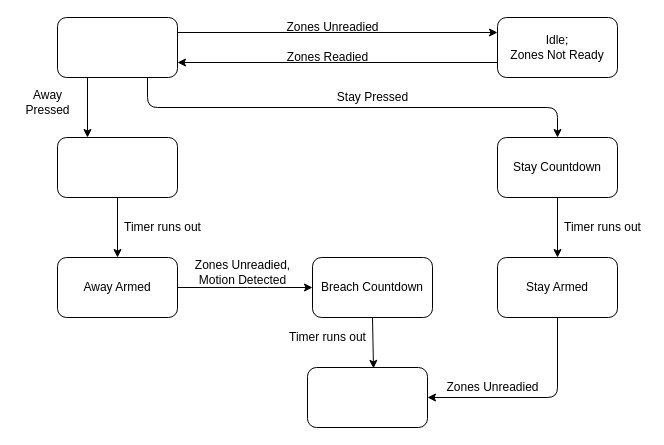
This 664x445 diagram has some shape labels left out. The box of each missing label's shape, as (x1, y1, x2, y2) in pixels:
Away Countdown: (56, 136, 178, 198)
Idle; Zones Ready: (56, 16, 178, 78)
Security Breach: (306, 366, 428, 428)
